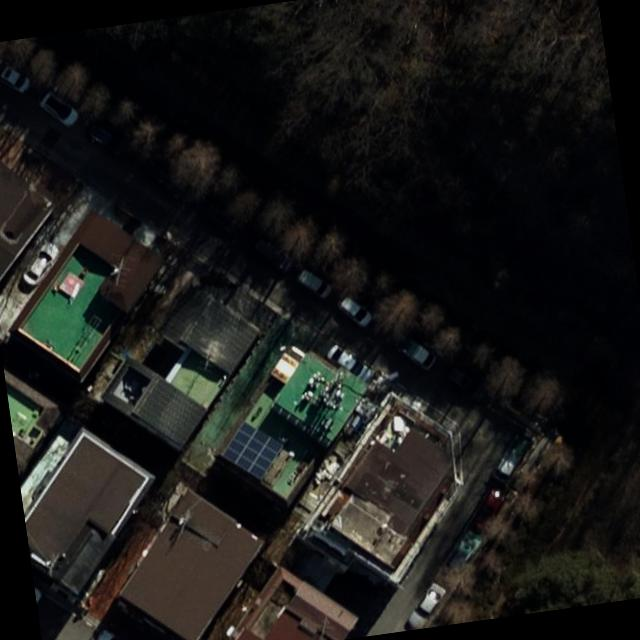solar: (212, 413, 290, 488)
